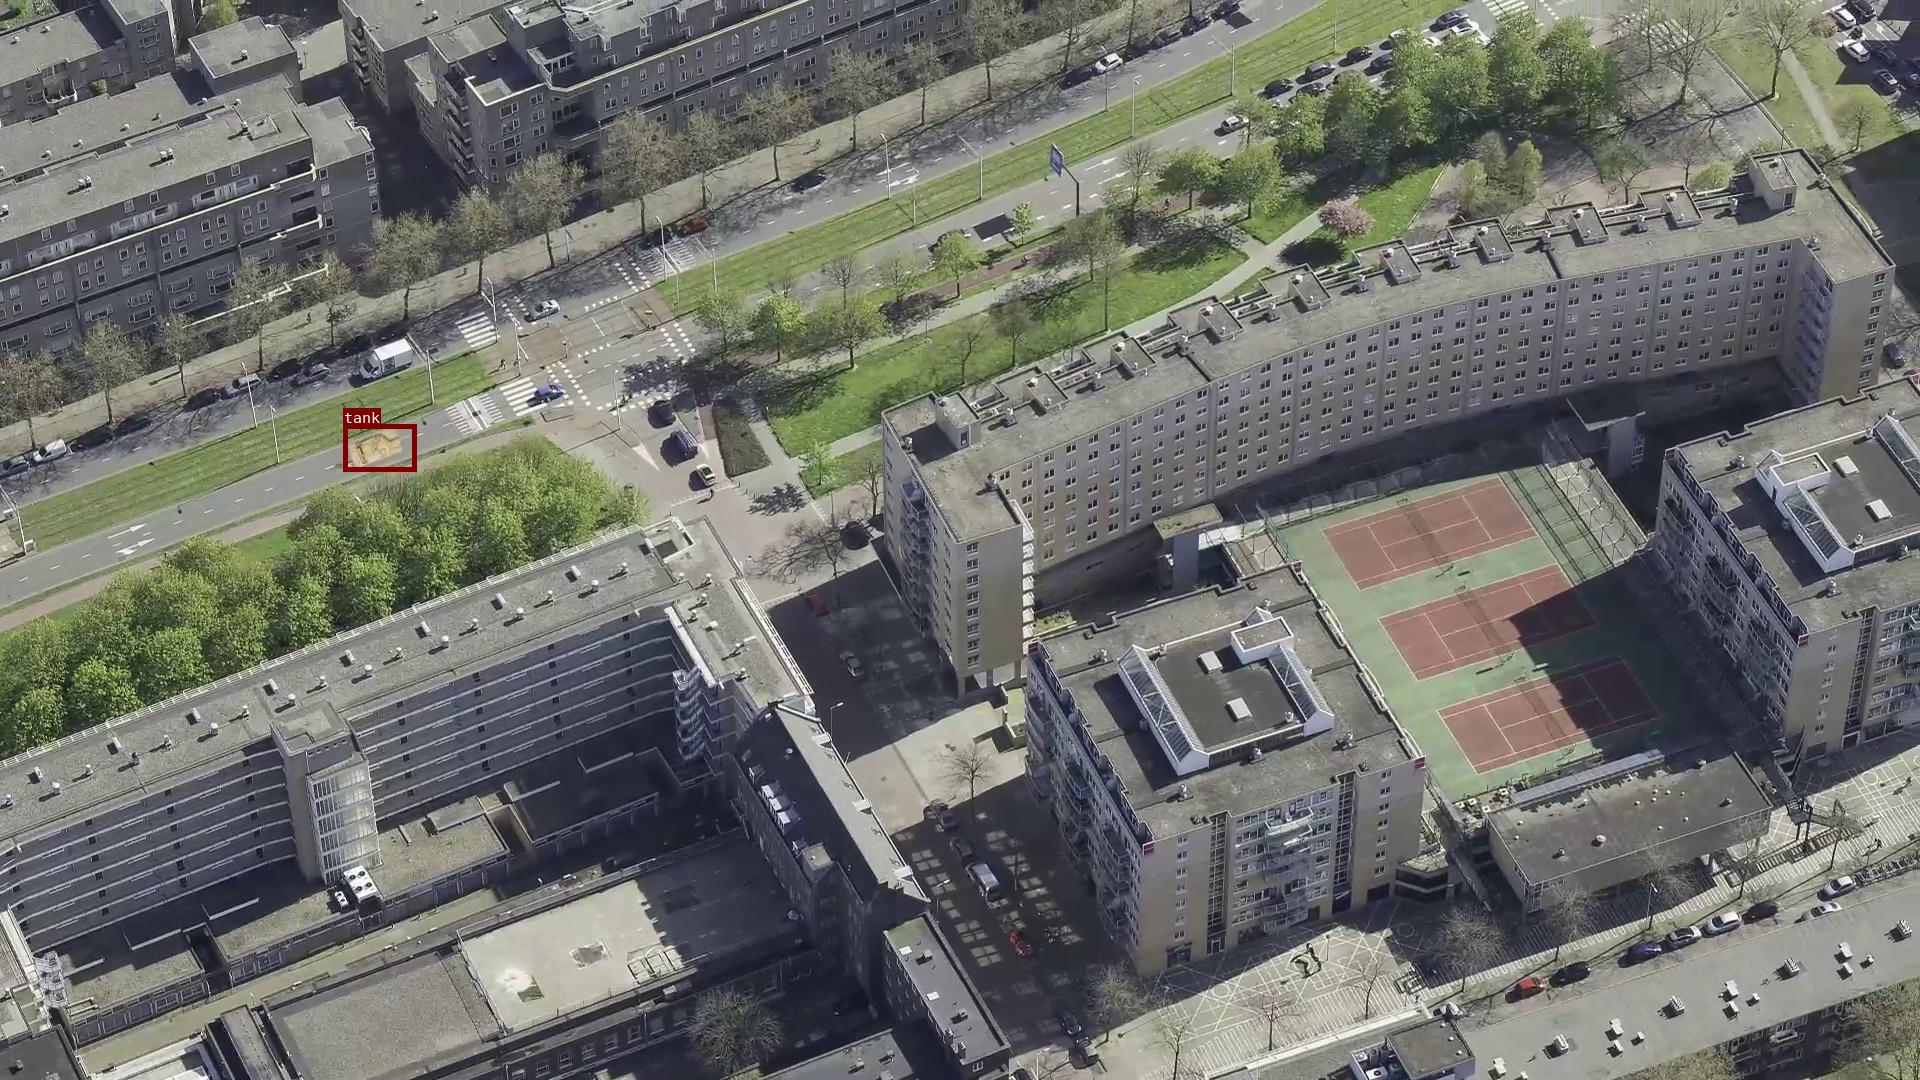tank: (343, 425, 415, 471)
